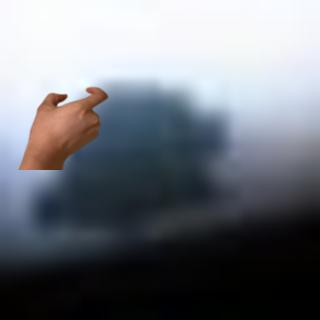HATE: (23, 83, 115, 162)
